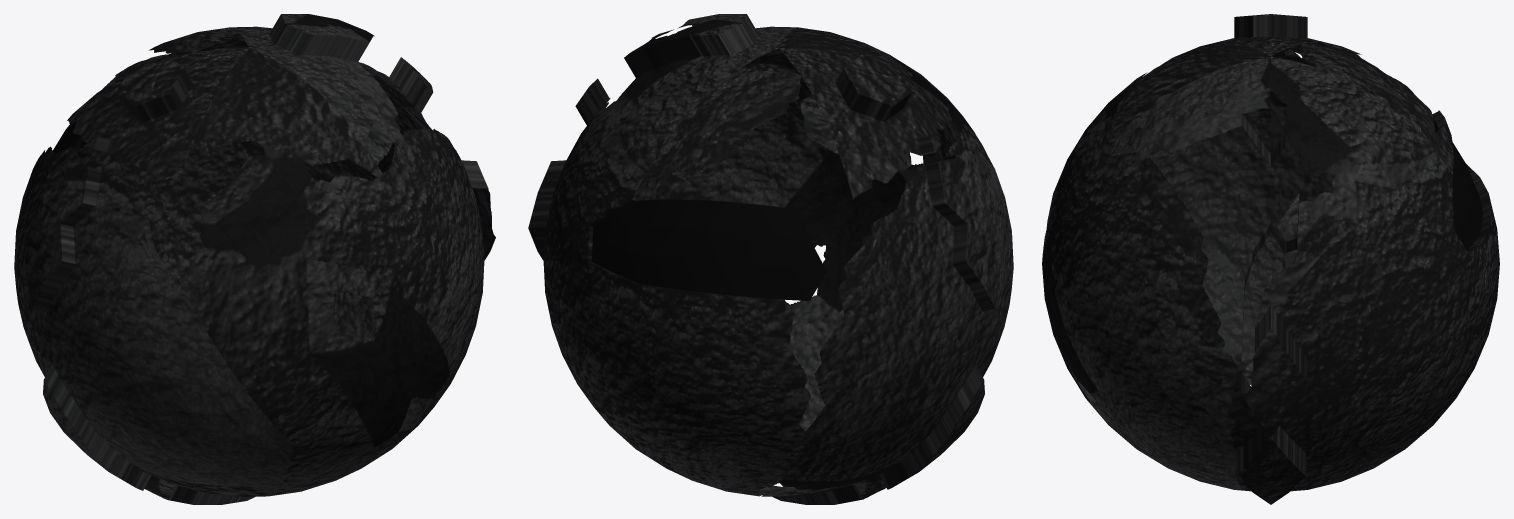
The model's file is abstractglass2.fbx.
3 renders of one model, left to right at view 1: azimuth 30°, elevation 25°; view 2: azimuth 150°, elevation 25°; view 3: azimuth 270°, elevation 25°, orthographic. The views are drawn at different scales.
Visible parts, largest first — view 1: Icosphere; view 2: Icosphere; view 3: Icosphere.
Part boxes in pixels (x1,y1,x2,y2): Icosphere: (14, 14, 495, 504); Icosphere: (528, 14, 1013, 504); Icosphere: (1042, 14, 1499, 504).
Size of the model in its own units: 1267 by 1225 by 1146.
Materials: 2 (2 with a texture image).
